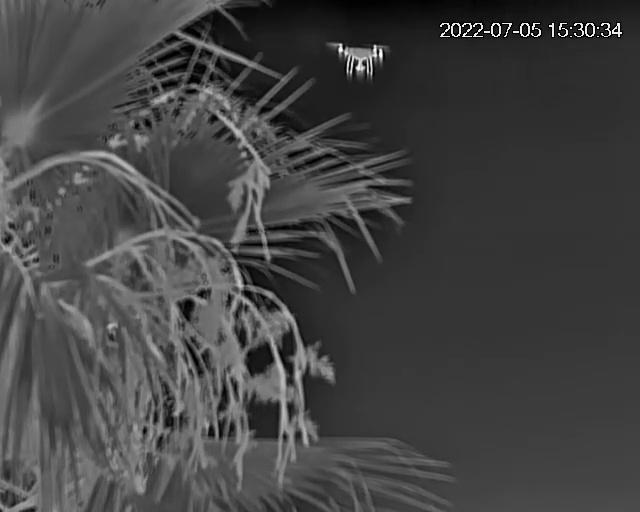DJI-Phantom: (327, 40, 393, 85)
